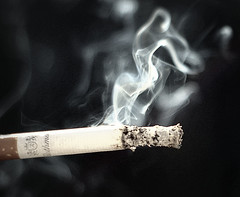cigarette: (0, 123, 188, 162)
